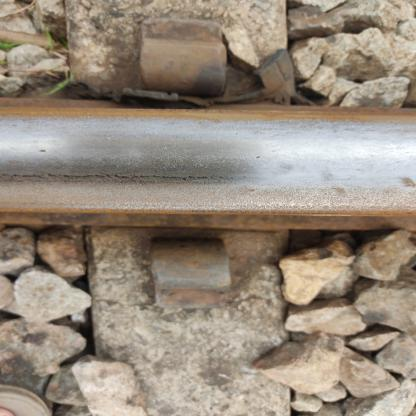Defective 1: (2, 139, 121, 339), (228, 169, 332, 296)
